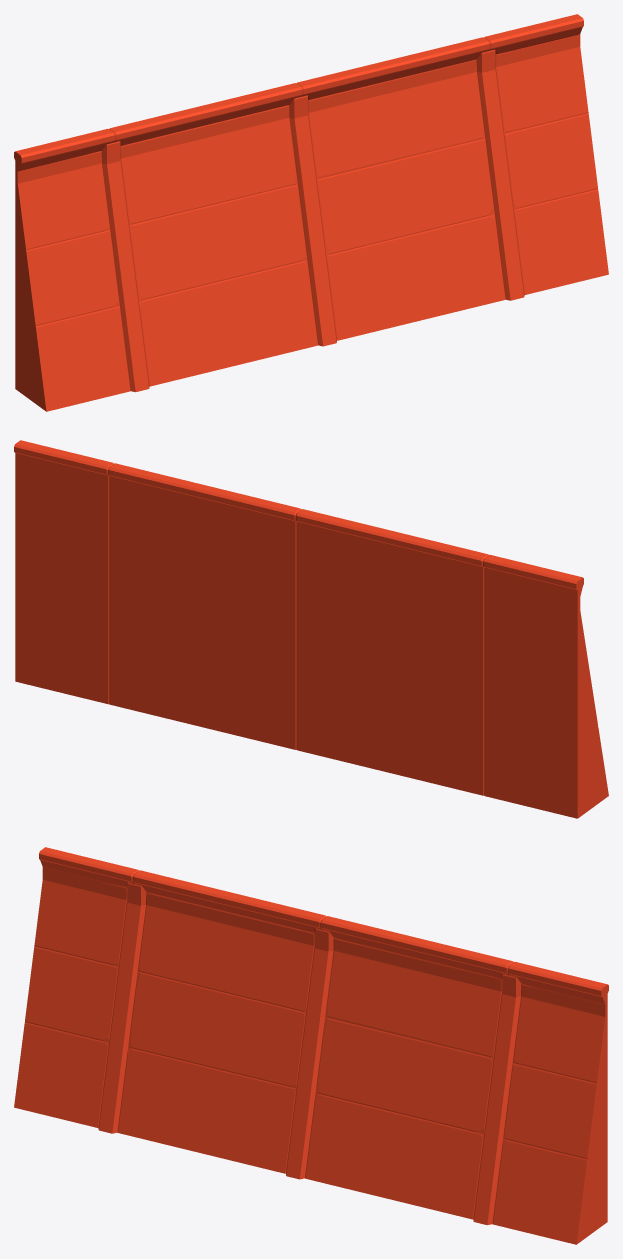
File: SM_Wall_Straight_Long_City.fbx
3 views of the same model, one above another, from view 1: azimuth 30°, elevation 25°; view 2: azimuth 150°, elevation 25°; view 3: azimuth 330°, elevation 25° (orthographic).
Parts seen in each view (by area): view 1: SM_Wall_Straight_Long_City; view 2: SM_Wall_Straight_Long_City; view 3: SM_Wall_Straight_Long_City.
Part boxes in pixels (x1,y1,x2,y2): SM_Wall_Straight_Long_City: (14, 14, 608, 411); SM_Wall_Straight_Long_City: (14, 440, 608, 818); SM_Wall_Straight_Long_City: (14, 847, 608, 1244).
Size of the model in its own units: 30 by 12.1 by 3.21.
